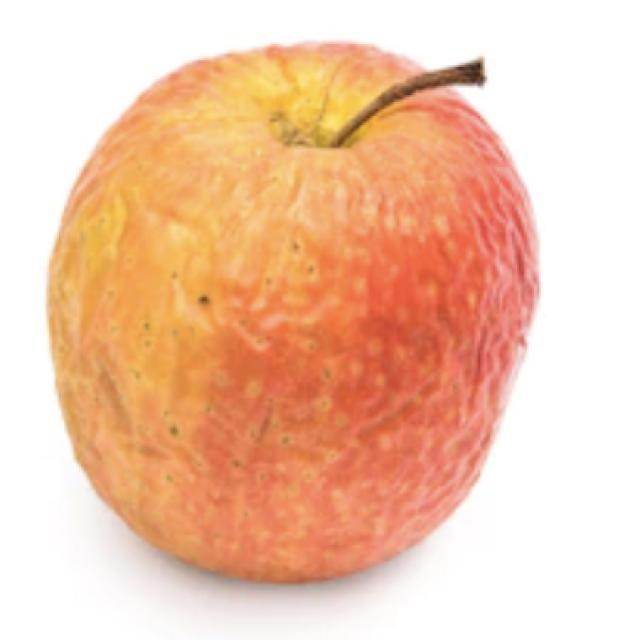Rotten: (40, 36, 532, 576)
